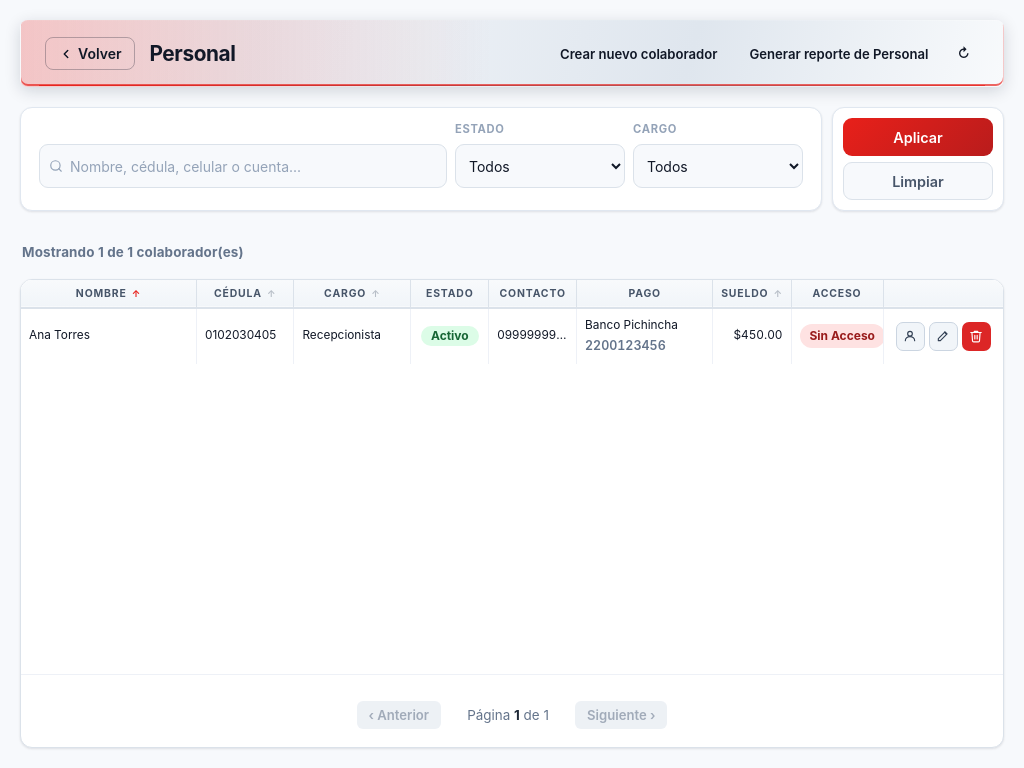
Test: Personal — gestión de acceso e integración con Usuarios › colaborador sin usuario muestra "Sin acceso" y abre el modal de creación con el colaborador bloqueado
This screenshot has width=1024, height=768.
Click the button named "Gestionar acceso de Ana Torres". click: (910, 336)
box: [896,322,925,351]
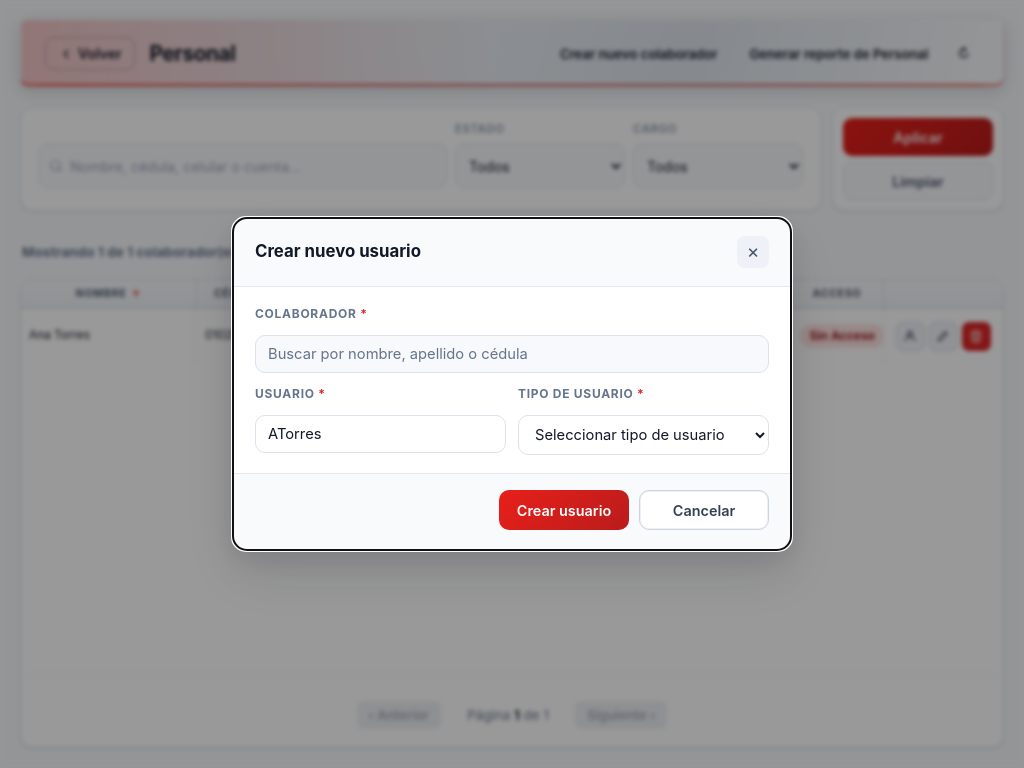
Result: the text "Crear nuevo usuario" is shown at [255,241,421,263]
